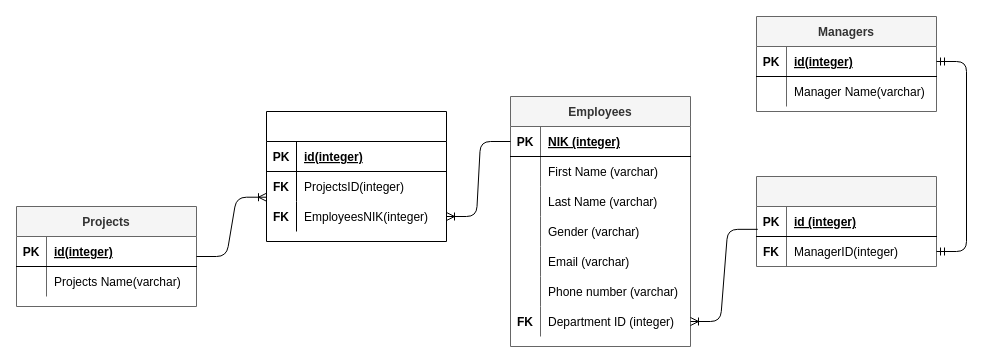
This 983x363 diagram has some shape labels left out. The shapes that lost their labels are listed below. From the top down, each one's box as (x1, y1, x2, y2) in pixels, then its label:
(266, 110, 446, 242): EmployeeProjects
(756, 176, 936, 266): Departments
